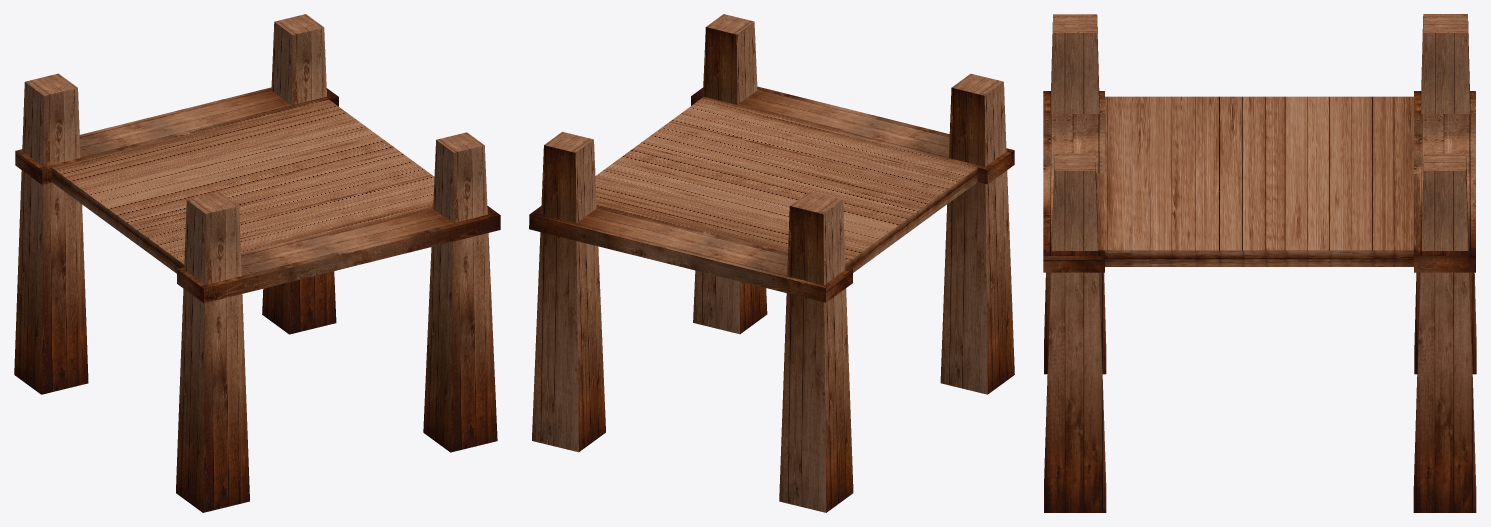
Rendered from HarborV2.fbx.
The picture shows the model from 3 angles, left to right: view 1: azimuth 30°, elevation 25°; view 2: azimuth 150°, elevation 25°; view 3: azimuth 270°, elevation 25°; orthographic projection. The views are drawn at different scales.
Visible parts, largest first — view 1: pCube12, pCube2, pCube1, pCube3, pCube11, pCube4, pCube5; view 2: pCube12, pCube1, pCube2, pCube4, pCube5, pCube3, pCube11; view 3: pCube12, pCube4, pCube3, pCube2, pCube1, pCube5, pCube11.
Part boxes in pixels (x1,y1,x2,y2): pCube12: [52, 97, 434, 273]; pCube2: [176, 192, 249, 512]; pCube1: [14, 73, 88, 394]; pCube3: [423, 132, 497, 452]; pCube11: [177, 206, 500, 303]; pCube4: [262, 14, 336, 334]; pCube5: [15, 87, 338, 184]; pCube12: [595, 96, 977, 272]; pCube1: [779, 191, 853, 512]; pCube2: [940, 73, 1014, 394]; pCube4: [532, 131, 605, 452]; pCube5: [529, 206, 852, 302]; pCube3: [693, 14, 767, 334]; pCube11: [691, 86, 1014, 184]; pCube12: [1096, 96, 1419, 266]; pCube4: [1413, 153, 1476, 512]; pCube3: [1044, 153, 1106, 512]; pCube2: [1044, 14, 1106, 374]; pCube1: [1414, 14, 1476, 374]; pCube5: [1414, 91, 1475, 272]; pCube11: [1043, 91, 1104, 272].
Size of the model in its own units: 6.32 by 5.97 by 6.95.
